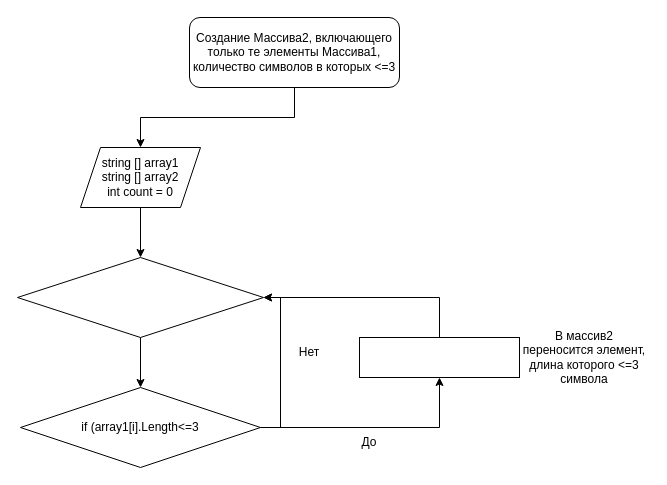
This 667x485 diagram has some shape labels left out. The centre of each missing label's shape, as x and y in pixels:
"array2[count]=array1[i] count++" goes at (x=439, y=357).
"for (int i = 0; i<array1.length; i++)" goes at (x=140, y=297).
